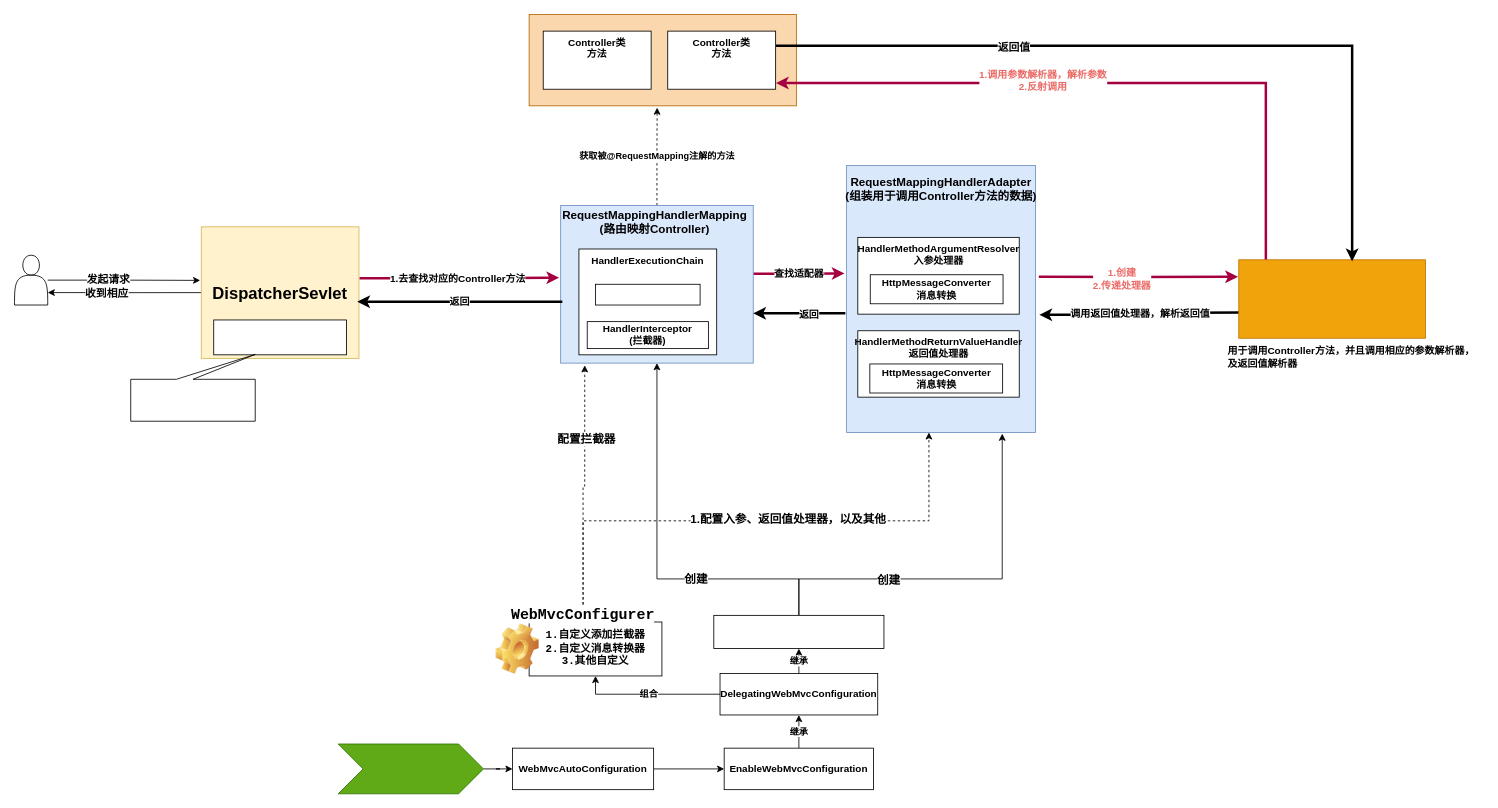
Some shapes in this 1498 by 808 pixel diagram are drawn without their labels. The shapes that lost their labels are listed below. From the top down, each one's box as (x1, y1, x2, y2) in pixels, then its label:
(595, 283, 700, 305): HandlerMethod
(1238, 259, 1426, 338): ServletInvocableHandlerMethod
(213, 319, 347, 355): HandlerExceptionResolver 异常处理器
(130, 354, 255, 421): 发生异常由此处理器处理，使用@ControllerAdvice
(713, 615, 884, 649): WebMvcConfigurationSupport
(337, 743, 483, 794): SpringBoot启动加载
